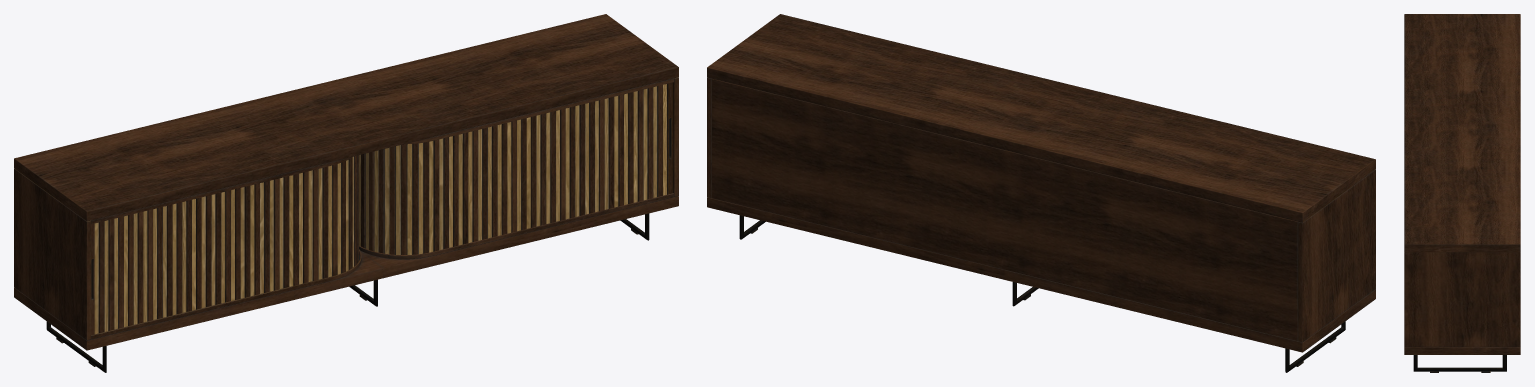
Rendered from modern_wooden_cabinet.glb.
3 views of the same model, side by side, from view 1: azimuth 30°, elevation 25°; view 2: azimuth 150°, elevation 25°; view 3: azimuth 270°, elevation 25° (orthographic). The views are drawn at different scales.
Parts seen in each view (by area): view 1: modern_wooden_cabinet_body, modern_wooden_cabinet_door_r, modern_wooden_cabinet_door_l; view 2: modern_wooden_cabinet_body; view 3: modern_wooden_cabinet_body.
Part boxes in pixels (x1,y1,x2,y2): modern_wooden_cabinet_body: [14, 14, 678, 372]; modern_wooden_cabinet_door_r: [359, 82, 672, 254]; modern_wooden_cabinet_door_l: [91, 155, 358, 334]; modern_wooden_cabinet_body: [707, 14, 1375, 372]; modern_wooden_cabinet_body: [1404, 14, 1520, 372].
Size of the model in its own units: 2.44 by 0.6801 by 0.52.
Materials: 1 (1 with a texture image).
